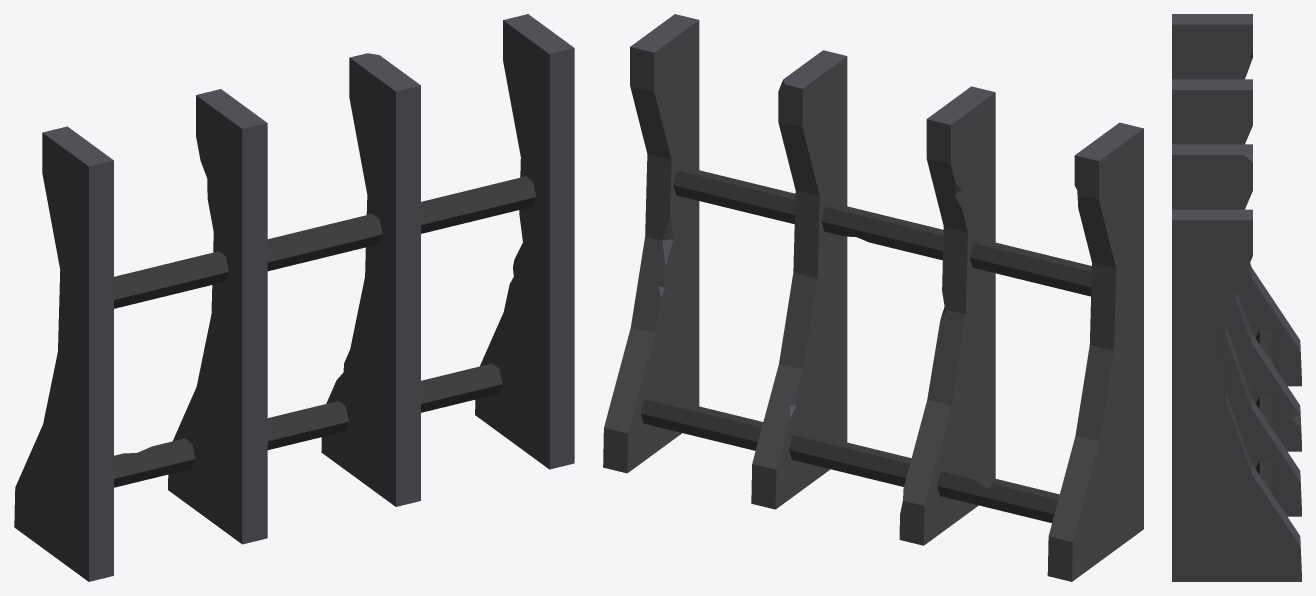
The model's file is SM_Prop_Detail_Struts_01.fbx.
3 renders of one model, left to right at view 1: azimuth 30°, elevation 25°; view 2: azimuth 150°, elevation 25°; view 3: azimuth 270°, elevation 25°, orthographic. The views are drawn at different scales.
Visible parts, largest first — view 1: SM_Prop_Detail_Struts_01_LOD0; view 2: SM_Prop_Detail_Struts_01_LOD0; view 3: SM_Prop_Detail_Struts_01_LOD0.
Part boxes in pixels (x1,y1,x2,y2): SM_Prop_Detail_Struts_01_LOD0: (14,14,574,581); SM_Prop_Detail_Struts_01_LOD0: (603,14,1143,581); SM_Prop_Detail_Struts_01_LOD0: (1172,14,1301,581).
Bounding box in the file's own units: 122 × 461 × 377.
1 material, 1 textured.
